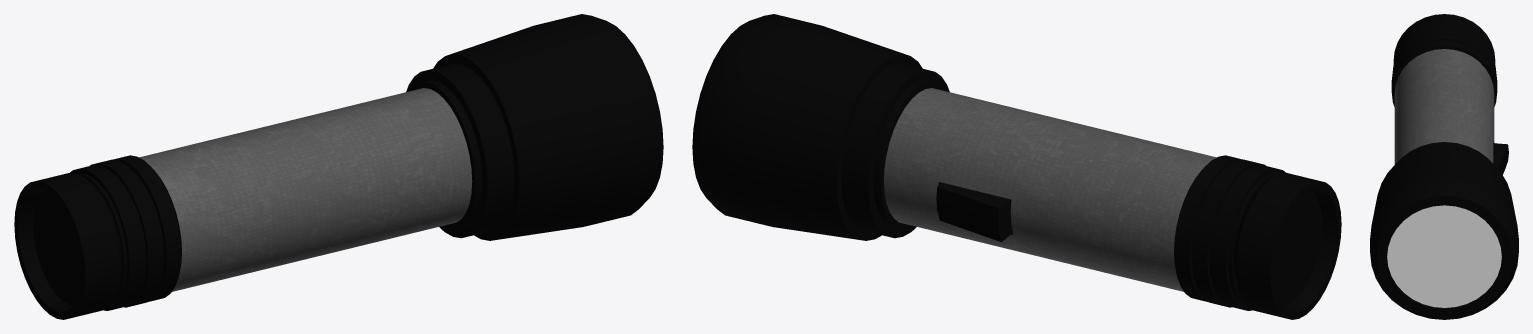
File: flashlight.fbx
3 renders of one model, left to right at view 1: azimuth 30°, elevation 25°; view 2: azimuth 150°, elevation 25°; view 3: azimuth 270°, elevation 25°, orthographic. The views are drawn at different scales.
Parts seen in each view (by area): view 1: Cylinder; view 2: Cylinder; view 3: Cylinder.
Part boxes in pixels (bbox=[...]): Cylinder: bbox=[14, 14, 663, 319]; Cylinder: bbox=[692, 14, 1341, 319]; Cylinder: bbox=[1370, 14, 1518, 319].
Size of the model in its own units: 470 by 150 by 150.
